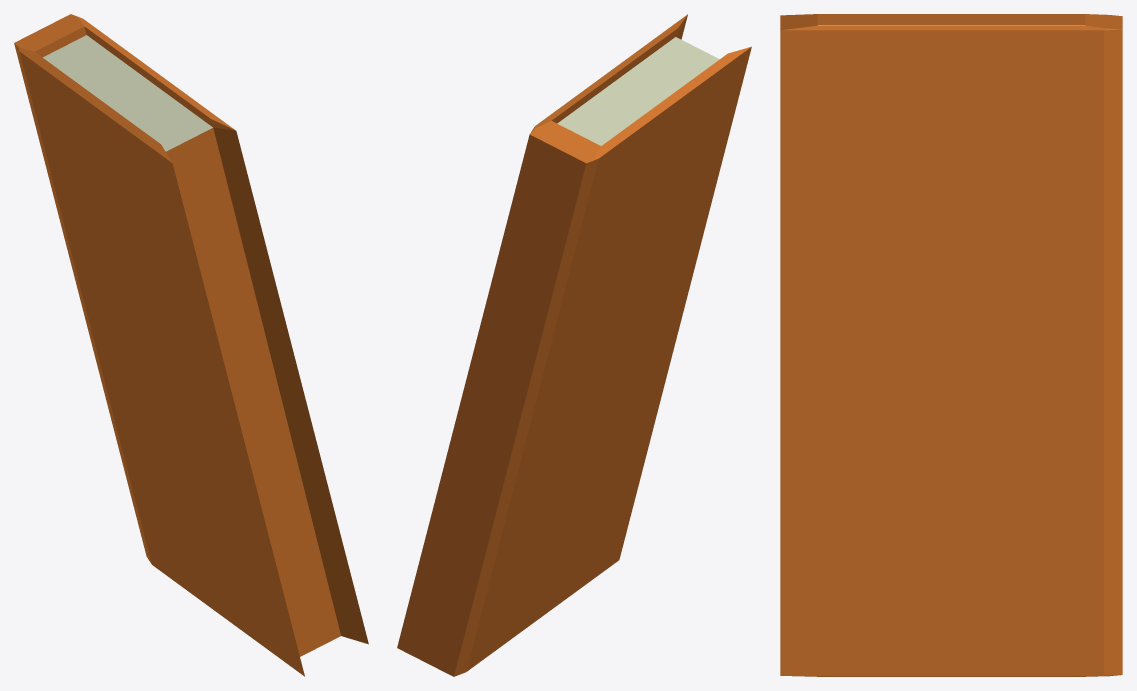
The model's file is Book4_Material.fbx.
The picture shows the model from 3 angles, left to right: view 1: azimuth 30°, elevation 25°; view 2: azimuth 150°, elevation 25°; view 3: azimuth 270°, elevation 25°; orthographic projection. The views are drawn at different scales.
Parts seen in each view (by area): view 1: Book.006; view 2: Book.006; view 3: Book.006.
Part boxes in pixels (x1=…): Book.006: x1=14, y1=14, x2=368, y2=676; Book.006: x1=397, y1=14, x2=751, y2=676; Book.006: x1=780, y1=14, x2=1122, y2=676.
Bounding box in the file's own units: 0.0496 × 0.1361 × 0.0709.
